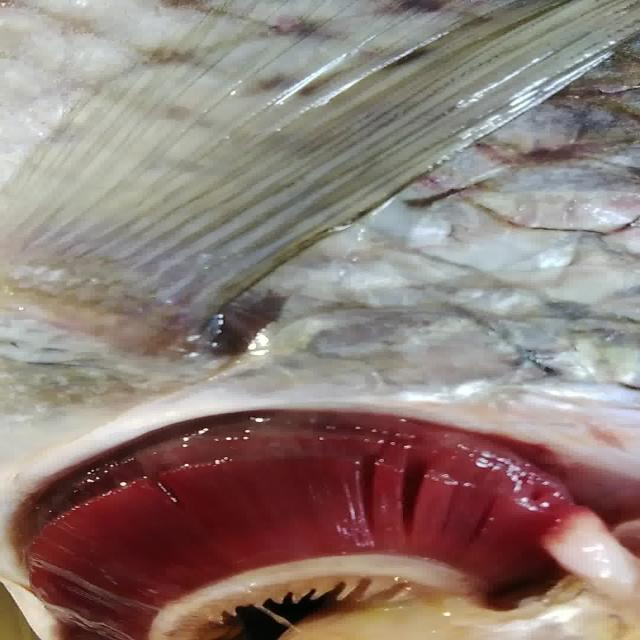Fresh: (8, 393, 601, 628)
